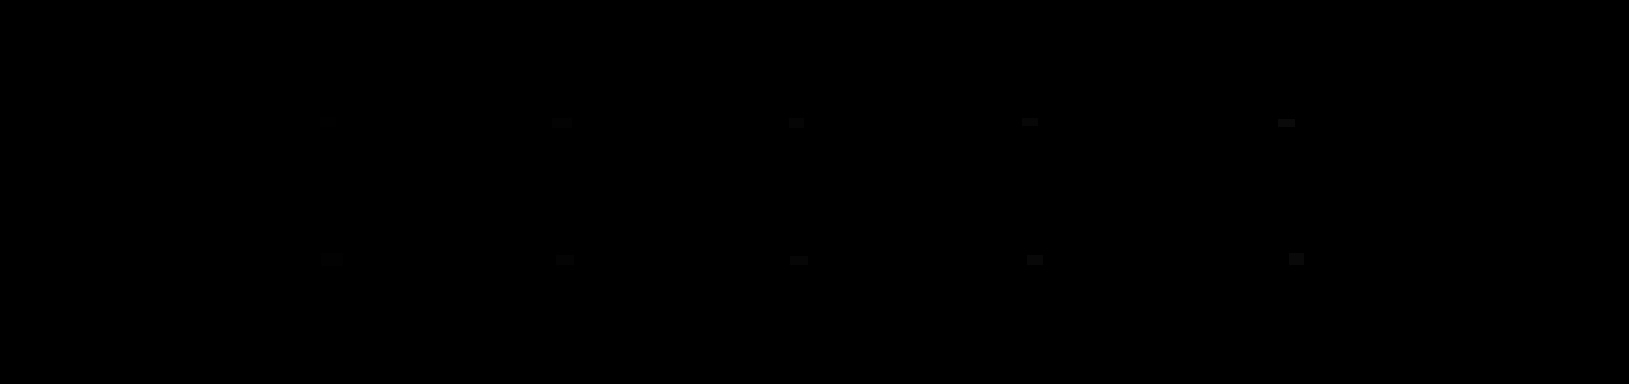light: (321, 253, 343, 266), (552, 118, 572, 128), (556, 255, 575, 265), (1289, 253, 1304, 265), (790, 256, 808, 265), (320, 117, 336, 127), (789, 118, 804, 128), (1027, 255, 1043, 265), (1278, 119, 1296, 127), (1022, 118, 1038, 126)
